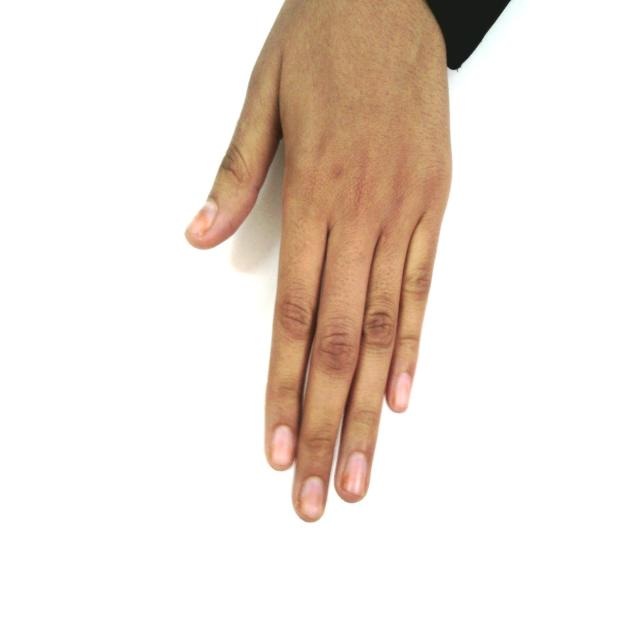Nail: (185, 198, 218, 236), (341, 454, 367, 497), (298, 477, 324, 519), (269, 426, 292, 466), (395, 373, 411, 410)
